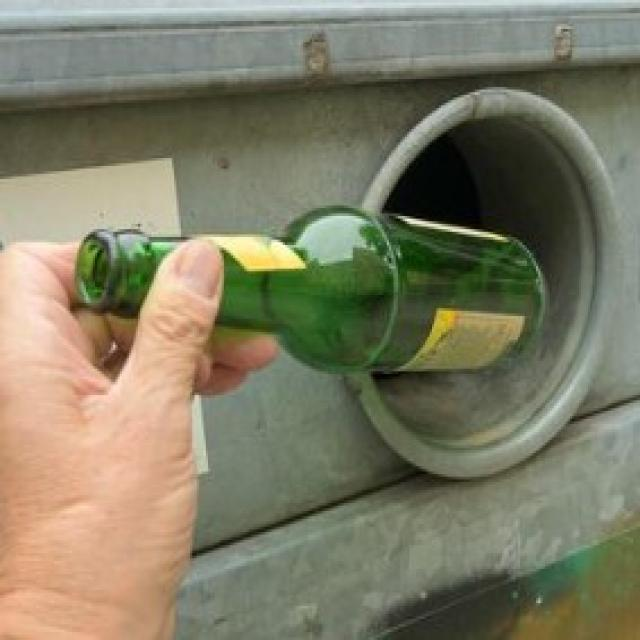electronic: (71, 205, 553, 379)
